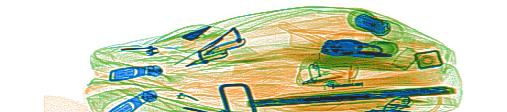battery: (352, 13, 389, 36)
